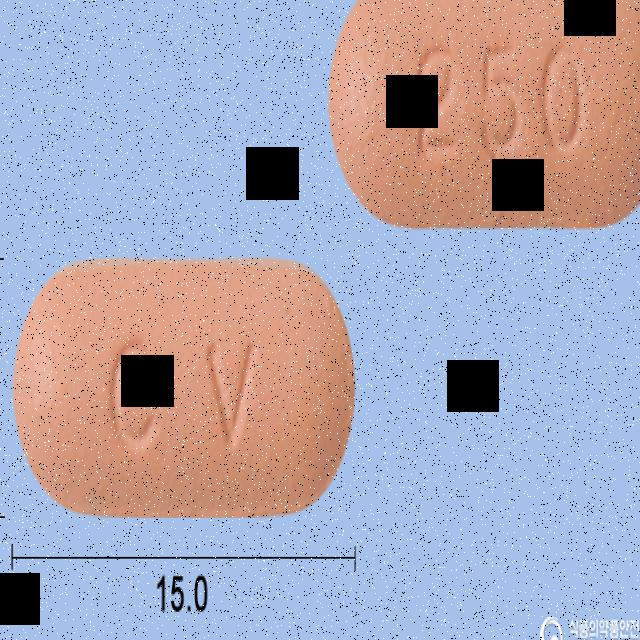Cravit - 500mg: (15, 257, 356, 516), (326, 0, 640, 228)
